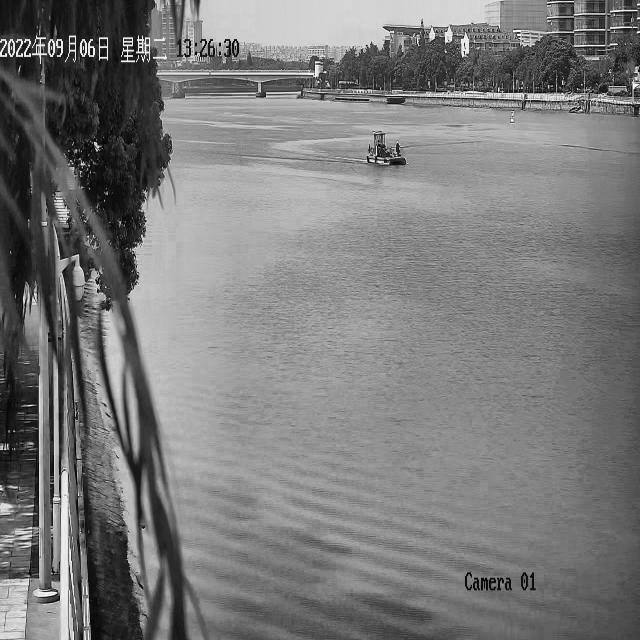ship: (366, 130, 405, 164)
